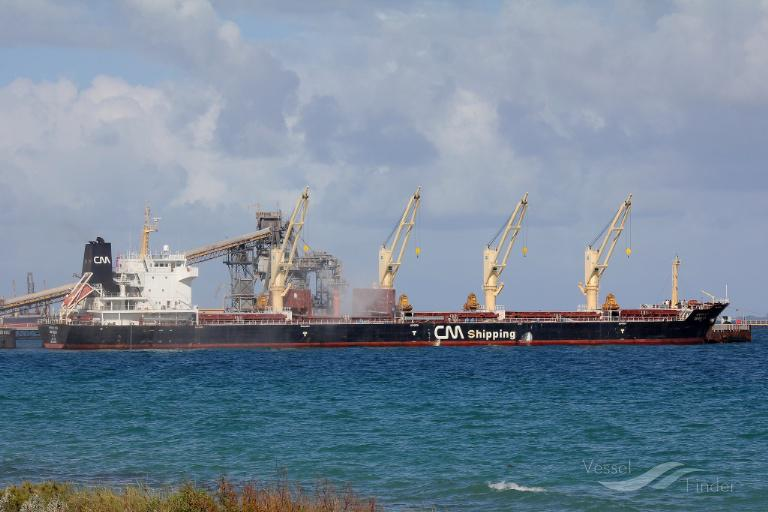OCR: (431, 321, 519, 344)
